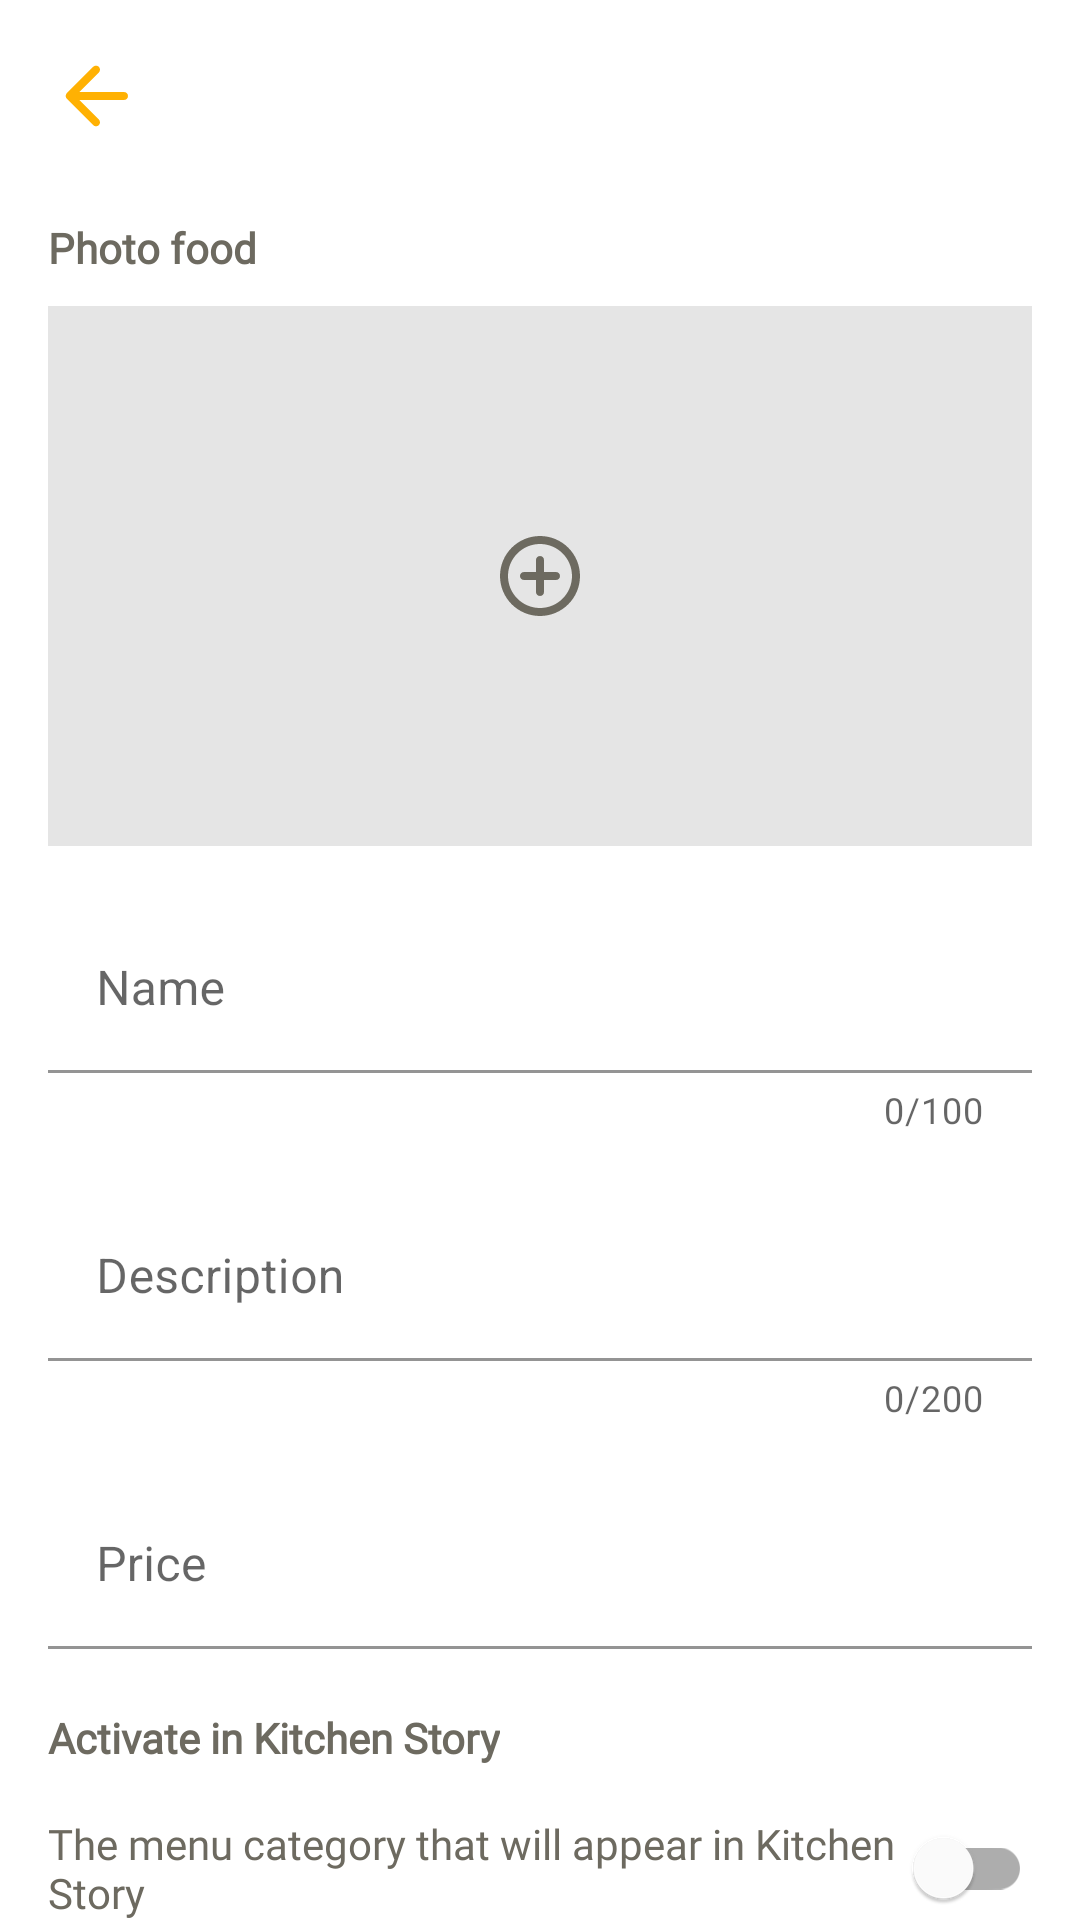

Locate icon controls on the screen. Image size 1080×1920, boxes as (x1, y1, x2, y2).
back: (65, 65, 128, 127)
